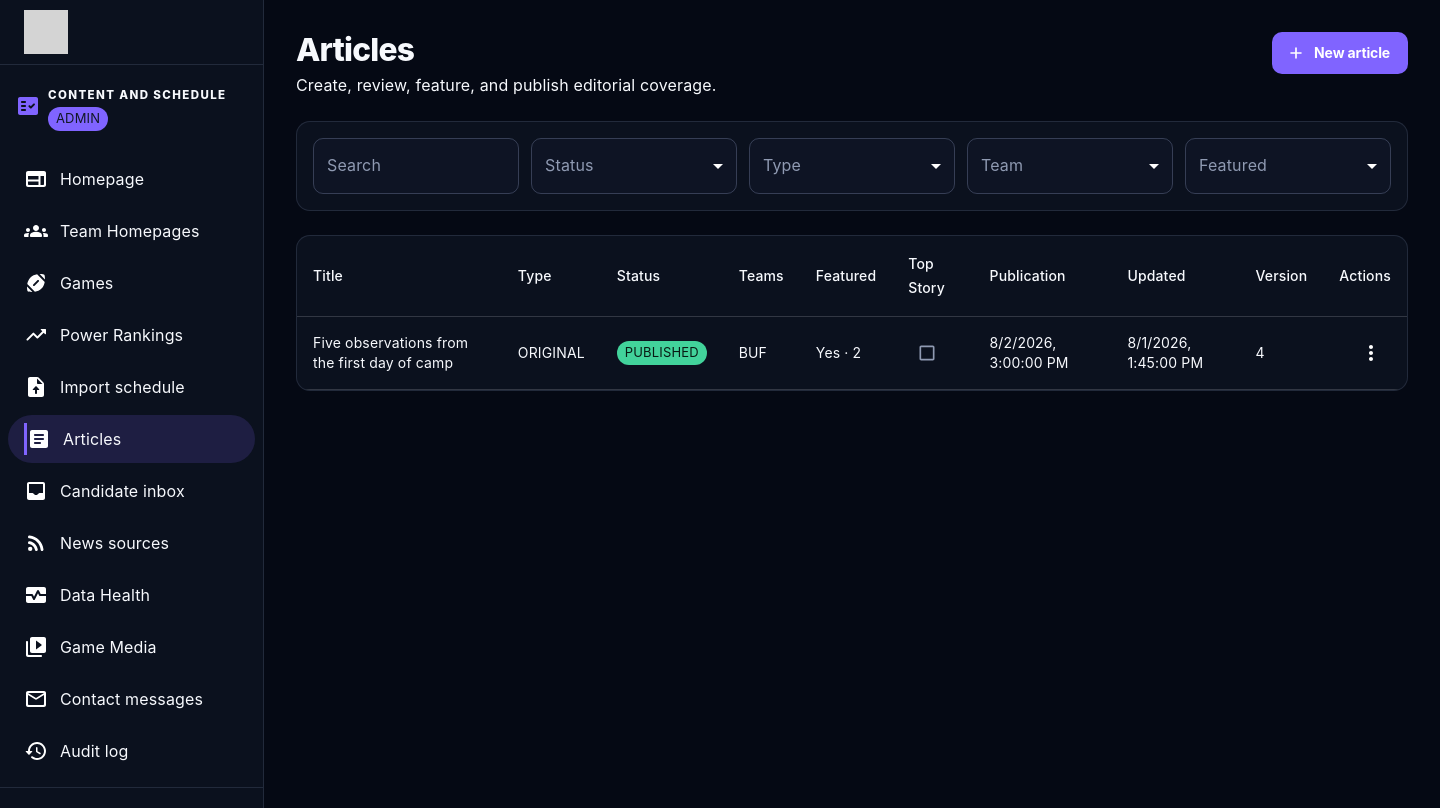
Test case: Admin Article actions › confirms DELETE, handles 204, and evicts admin and public article state
Click the button named "Open actions for Five observations from the first day of cam" at (1371, 353), box left=1351, top=333, right=1391, bottom=373
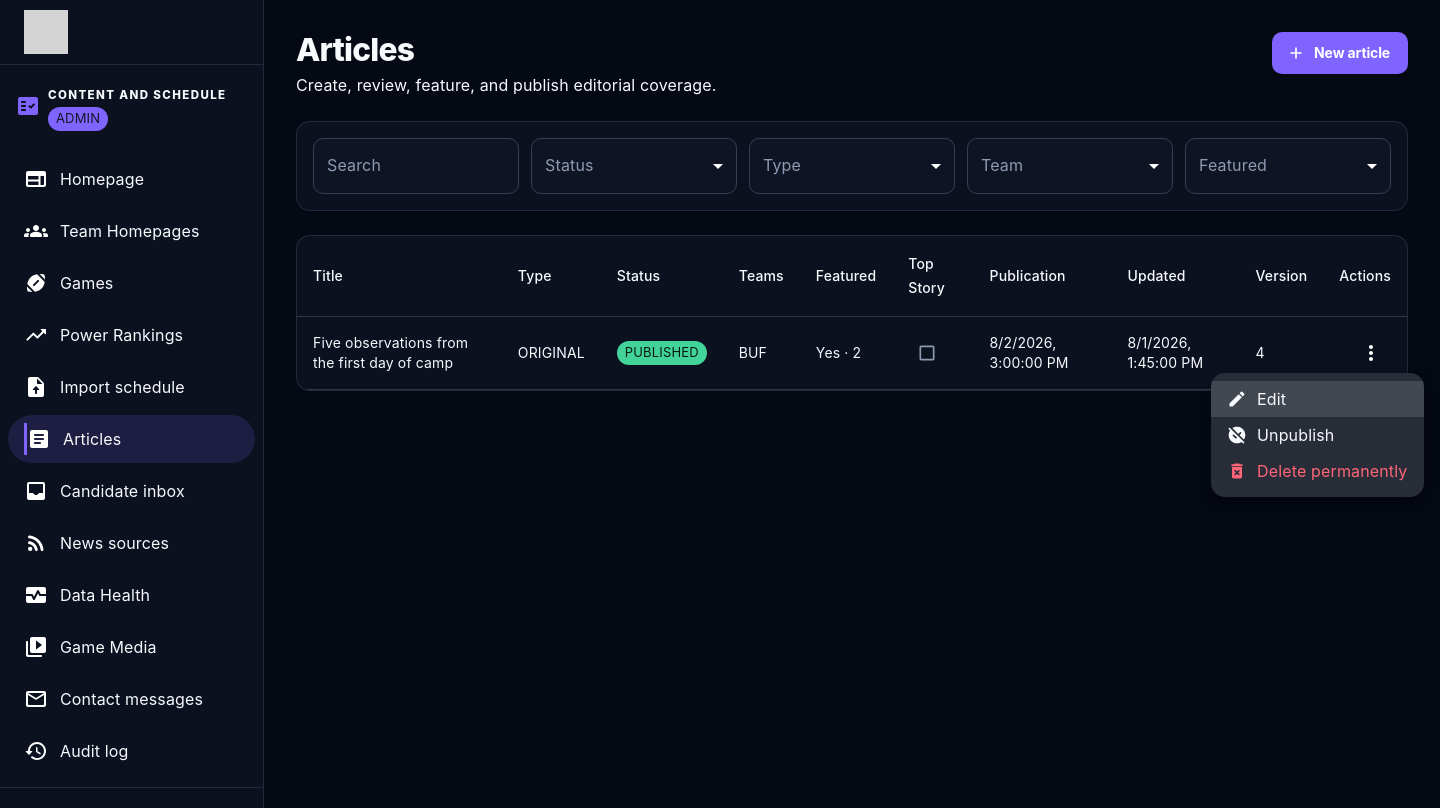
Click the menu item "Delete permanently" at (1317, 471), box left=1227, top=461, right=1408, bottom=481
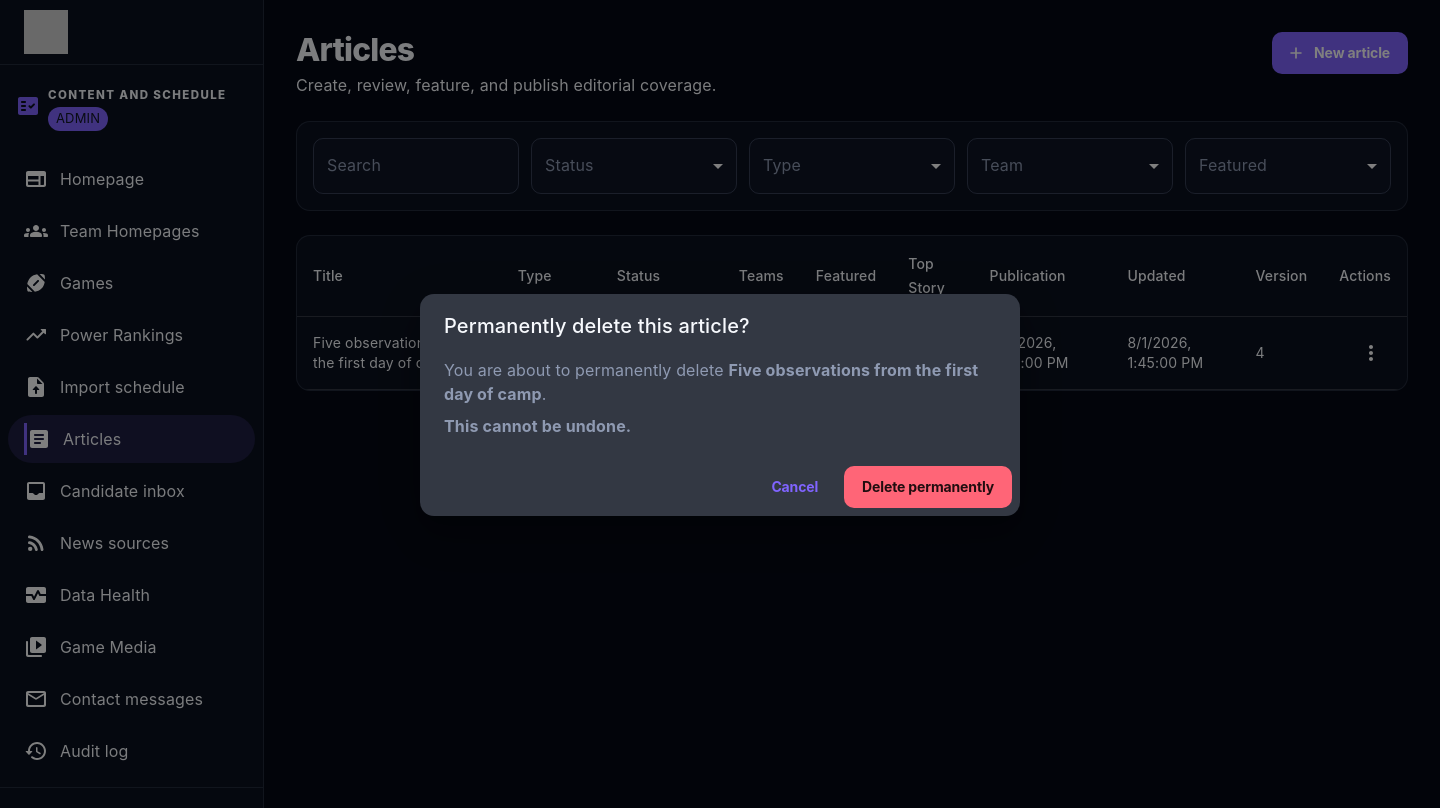
Click the button "Delete permanently" at (928, 487), box left=844, top=466, right=1012, bottom=508
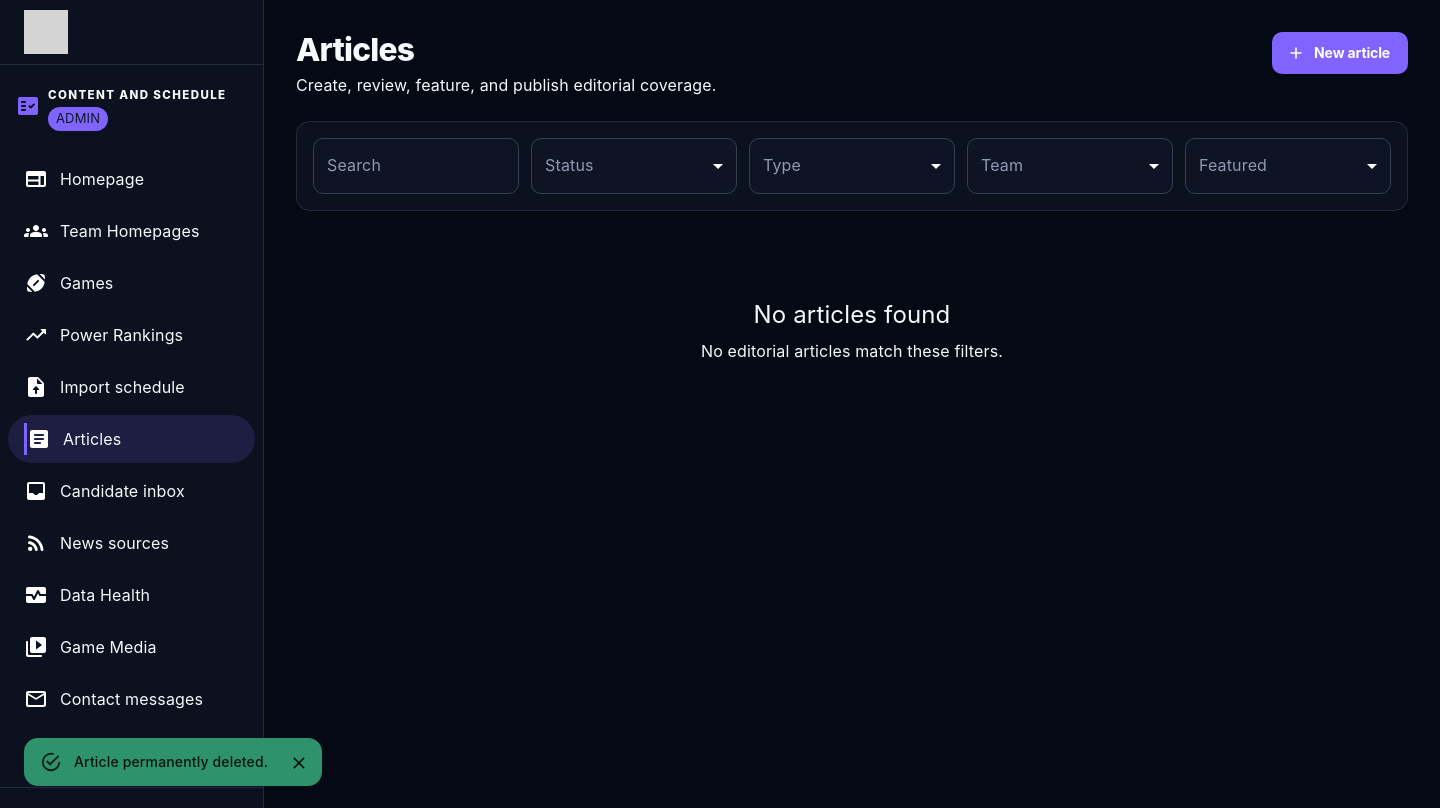
expect the text "Article permanently deleted." is shown: met, box left=74, top=753, right=268, bottom=770
expect the heading "No articles found" is shown: met, box left=754, top=300, right=950, bottom=329
